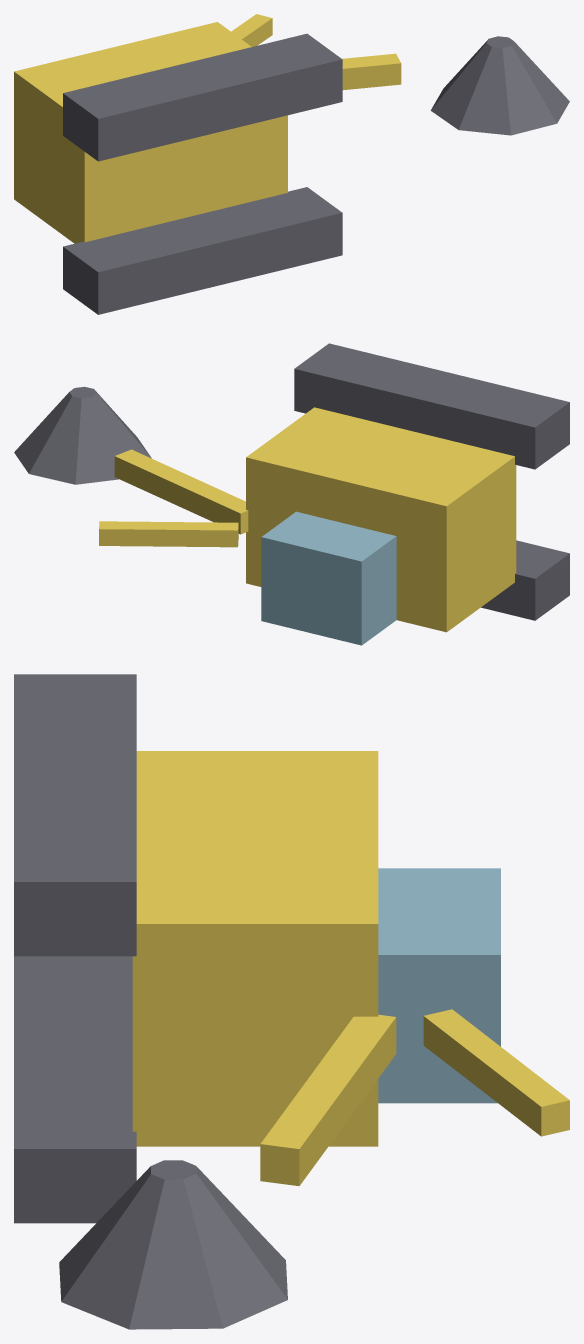
The model's file is excavator.glb.
3 views of the same model, one above another, from view 1: azimuth 30°, elevation 25°; view 2: azimuth 150°, elevation 25°; view 3: azimuth 270°, elevation 25° (orthographic). The views are drawn at different scales.
Visible parts, largest first — view 1: Body, Track_1.8, Track_-1.8, Bucket, Boom, Stick; view 2: Body, Track_1.8, Cab, Bucket, Boom, Track_-1.8, Stick; view 3: Body, Track_1.8, Track_-1.8, Bucket, Cab, Boom, Stick.
Boxes of the visible parts, left/top/right/bottom form: Body: left=14, top=22, right=287, bottom=243; Track_1.8: left=63, top=33, right=342, bottom=161; Track_-1.8: left=63, top=187, right=342, bottom=314; Bucket: left=431, top=36, right=569, bottom=135; Boom: left=342, top=53, right=401, bottom=90; Stick: left=231, top=14, right=272, bottom=46; Body: left=246, top=407, right=516, bottom=632; Track_1.8: left=294, top=343, right=569, bottom=469; Cab: left=261, top=511, right=396, bottom=645; Bucket: left=14, top=386, right=151, bottom=484; Boom: left=114, top=449, right=248, bottom=534; Track_-1.8: left=481, top=540, right=569, bottom=620; Stick: left=99, top=521, right=238, bottom=547; Body: left=132, top=751, right=378, bottom=1146; Track_1.8: left=14, top=674, right=136, bottom=956; Track_-1.8: left=14, top=956, right=136, bottom=1223; Bucket: left=59, top=1160, right=287, bottom=1329; Cab: left=378, top=868, right=500, bottom=1103; Boom: left=260, top=1014, right=396, bottom=1186; Stick: left=423, top=1009, right=569, bottom=1136.
Size of the model in its own units: 12.4 by 4.6 by 6.79.
